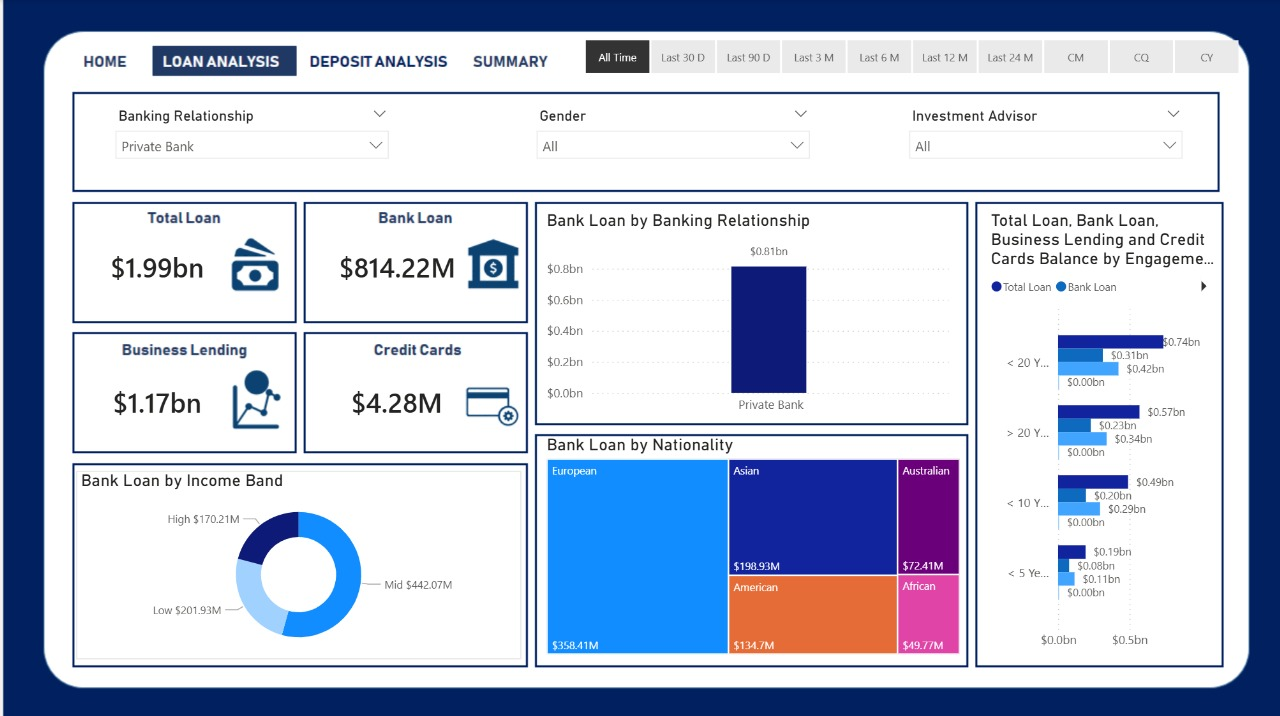

The page's visual inventory and layout, read from the dashboard file:
{"tool":"powerbi","page":{"name":"Loan Analysis","canvas":[1280,720],"ordinal":1},"visuals":[{"type":"card","fields":{"Values":["DAX Measures.Total Loan"]},"box":[72.7,224,161.8,90.3],"z":0},{"type":"card","fields":{"Values":["DAX Measures.Bank Loan"]},"box":[307.2,224,172.4,89.1],"z":1000},{"type":"card","fields":{"Values":["DAX Measures.Credit Cards"]},"box":[307.2,360,171.2,89.1],"z":2000},{"type":"card","fields":{"Values":["DAX Measures.Business Lending"]},"box":[72.7,360,161.8,89.1],"z":3000},{"type":"slicer","fields":{"Values":["Banking Relationship.Banking Relationship"]},"box":[102.3,103.4,292.9,75.7],"z":4000},{"type":"slicer","fields":{"Values":["Gender.Gender"]},"box":[522.7,103.4,292.9,75.7],"z":5000},{"type":"slicer","fields":{"Values":["Investment Advisor.Investment Advisor"]},"box":[895,103.4,292.9,75.7],"z":6000},{"type":"donutChart","fields":{"Category":["Clients - Banking.Income Band"],"Y":["DAX Measures.Bank Loan"]},"box":[72.7,471.4,444.4,188.8],"z":7000},{"type":"clusteredBarChart","fields":{"Category":["Clients - Banking.Engagement Timeframe"],"Y":["DAX Measures.Total Loan","DAX Measures.Bank Loan","DAX Measures.Business Lending","DAX Measures.Credit Cards"]},"box":[981.5,212.2,236.9,447.9],"z":8000},{"type":"treemap","fields":{"Group":["Clients - Banking.Nationality"],"Values":["DAX Measures.Bank Loan"]},"box":[538.2,436.2,422.1,224],"z":9000},{"type":"lineClusteredColumnComboChart","fields":{"Y":["DAX Measures.Bank Loan"],"Category":["Banking Relationship.Banking Relationship"]},"box":[538.2,212.2,411.6,212.2],"z":10000},{"type":"slicer","fields":{"Values":["Period.Name"]},"box":[555.2,34.6,702.1,46.6],"z":11000},{"type":"actionButton","box":[72.8,44.2,58.5,31],"z":12000},{"type":"actionButton","box":[306.9,44.7,119.4,31],"z":13000},{"type":"actionButton","box":[471.6,44.2,83.6,31],"z":14000}]}

Visuals, with their boxes in screenshot pixels (x1, y1, x2, y2), scaled from the page's 1280x720 canvas onto the 1280x716 screenshot:
card - DAX Measures.Total Loan: [left=73, top=223, right=234, bottom=313]
card - DAX Measures.Bank Loan: [left=307, top=223, right=480, bottom=311]
card - DAX Measures.Credit Cards: [left=307, top=358, right=478, bottom=447]
card - DAX Measures.Business Lending: [left=73, top=358, right=234, bottom=447]
slicer - Banking Relationship.Banking Relationship: [left=102, top=103, right=395, bottom=178]
slicer - Gender.Gender: [left=523, top=103, right=816, bottom=178]
slicer - Investment Advisor.Investment Advisor: [left=895, top=103, right=1188, bottom=178]
donutChart - Clients - Banking.Income Band x DAX Measures.Bank Loan: [left=73, top=469, right=517, bottom=657]
clusteredBarChart - Clients - Banking.Engagement Timeframe x DAX Measures.Total Loan: [left=982, top=211, right=1218, bottom=656]
treemap - Clients - Banking.Nationality x DAX Measures.Bank Loan: [left=538, top=434, right=960, bottom=657]
lineClusteredColumnComboChart - DAX Measures.Bank Loan x Banking Relationship.Banking Relationship: [left=538, top=211, right=950, bottom=422]
slicer - Period.Name: [left=555, top=34, right=1257, bottom=81]
actionButton: [left=73, top=44, right=131, bottom=75]
actionButton: [left=307, top=44, right=426, bottom=75]
actionButton: [left=472, top=44, right=555, bottom=75]
